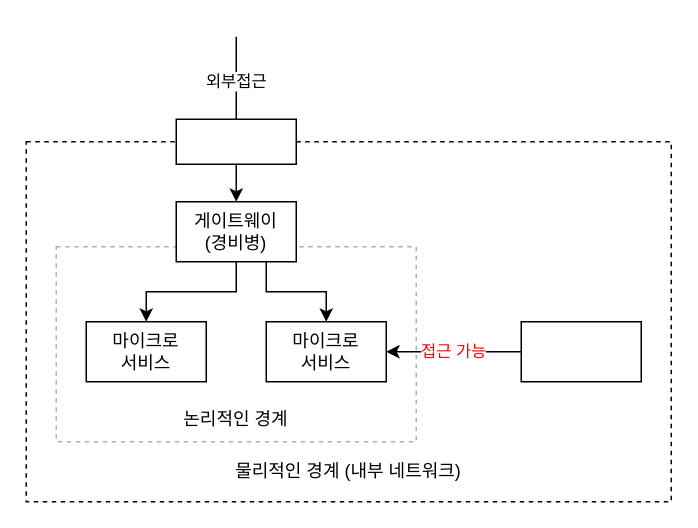
Some shapes in this 698 by 528 pixel diagram are drawn without their labels. The shapes that lost their labels are listed below. From the top down, each one's box as (x1, y1, x2, y2) in pixels, then its label:
(175, 118, 296, 164): 게이트웨이
(520, 320, 641, 382): 내부 서비스
